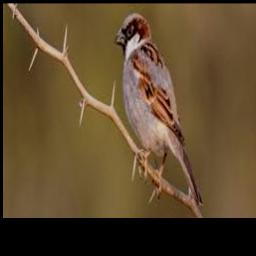Sparrow: (115, 12, 203, 208)
